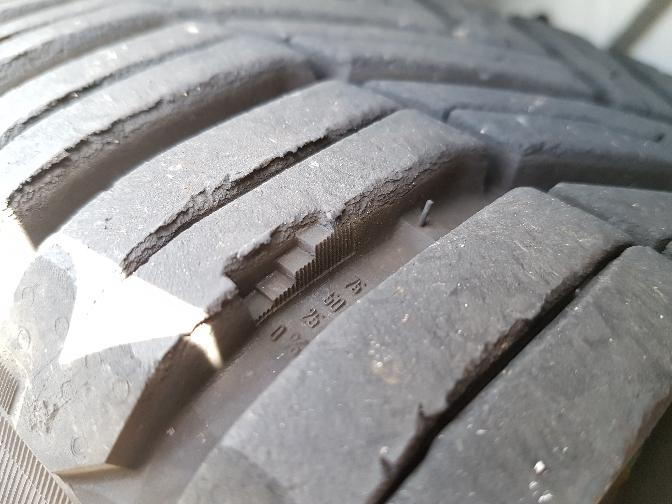temoin:90: (213, 191, 366, 334)
